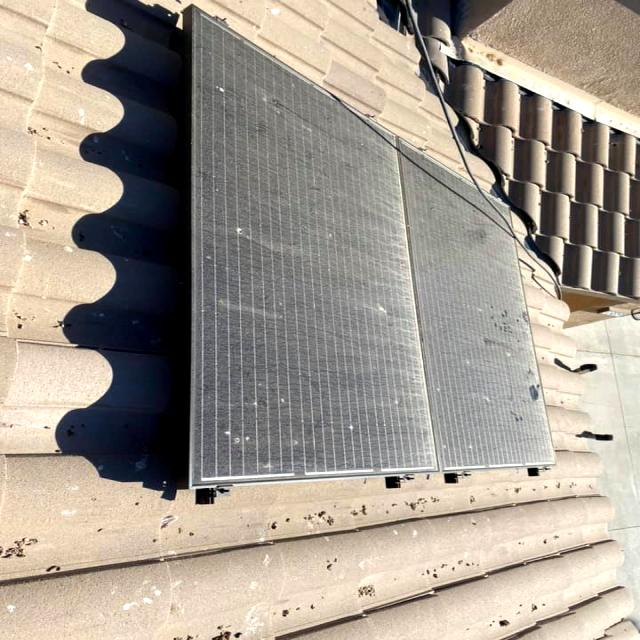dust: (404, 175, 562, 462), (300, 126, 390, 470), (193, 32, 288, 301), (192, 314, 278, 464)
